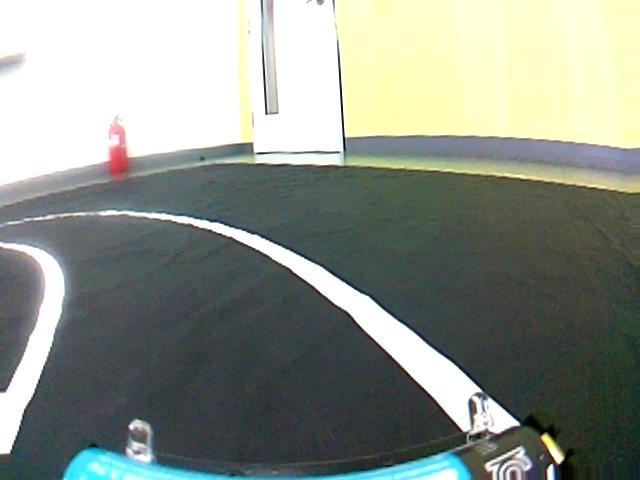left: (0, 208, 592, 473)
